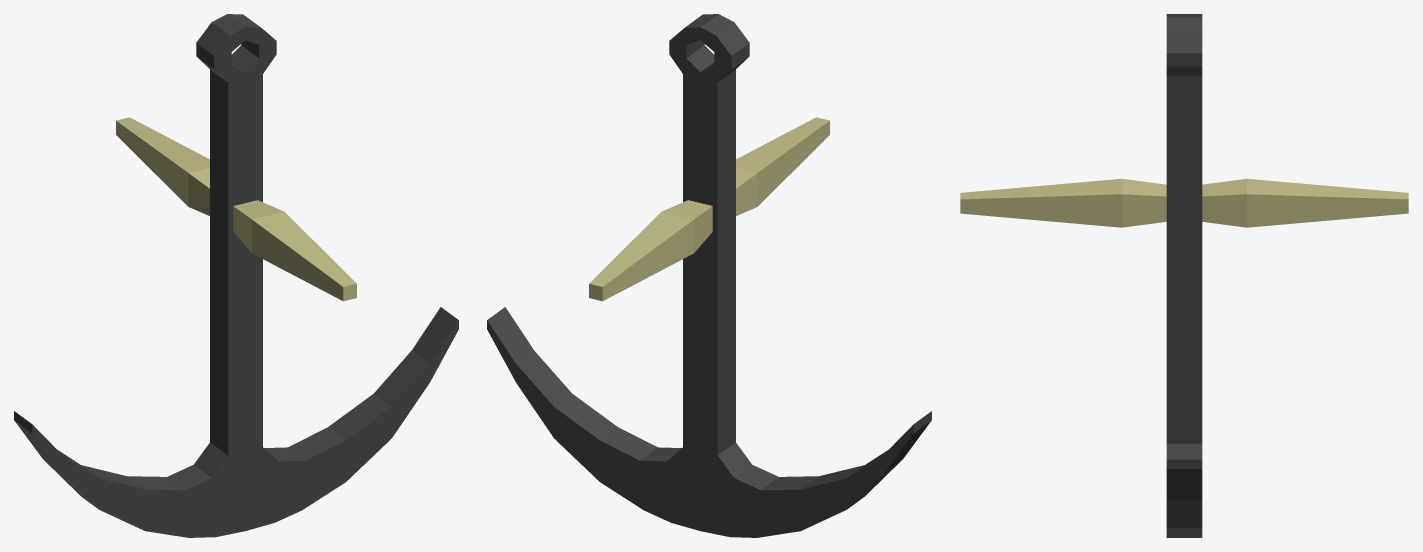
Rendered from Anchor base.fbx.
3 renders of one model, left to right at view 1: azimuth 30°, elevation 25°; view 2: azimuth 150°, elevation 25°; view 3: azimuth 270°, elevation 25°, orthographic.
Parts seen in each view (by area): view 1: Cube.221, Cube.220; view 2: Cube.221, Cube.220; view 3: Cube.221, Cube.220.
Part boxes in pixels (<box>): Cube.221: <box>14,14,458,537</box>; Cube.220: <box>116,117,356,301</box>; Cube.221: <box>487,14,931,537</box>; Cube.220: <box>589,117,829,301</box>; Cube.221: <box>1166,14,1202,537</box>; Cube.220: <box>960,178,1408,227</box>.
Size of the model in its own units: 2.22 by 2.51 by 2.05.
